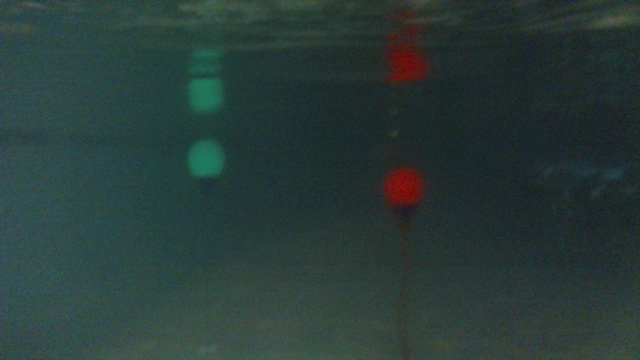buoy_green: (185, 134, 224, 195)
buoy_red: (378, 165, 430, 226)
